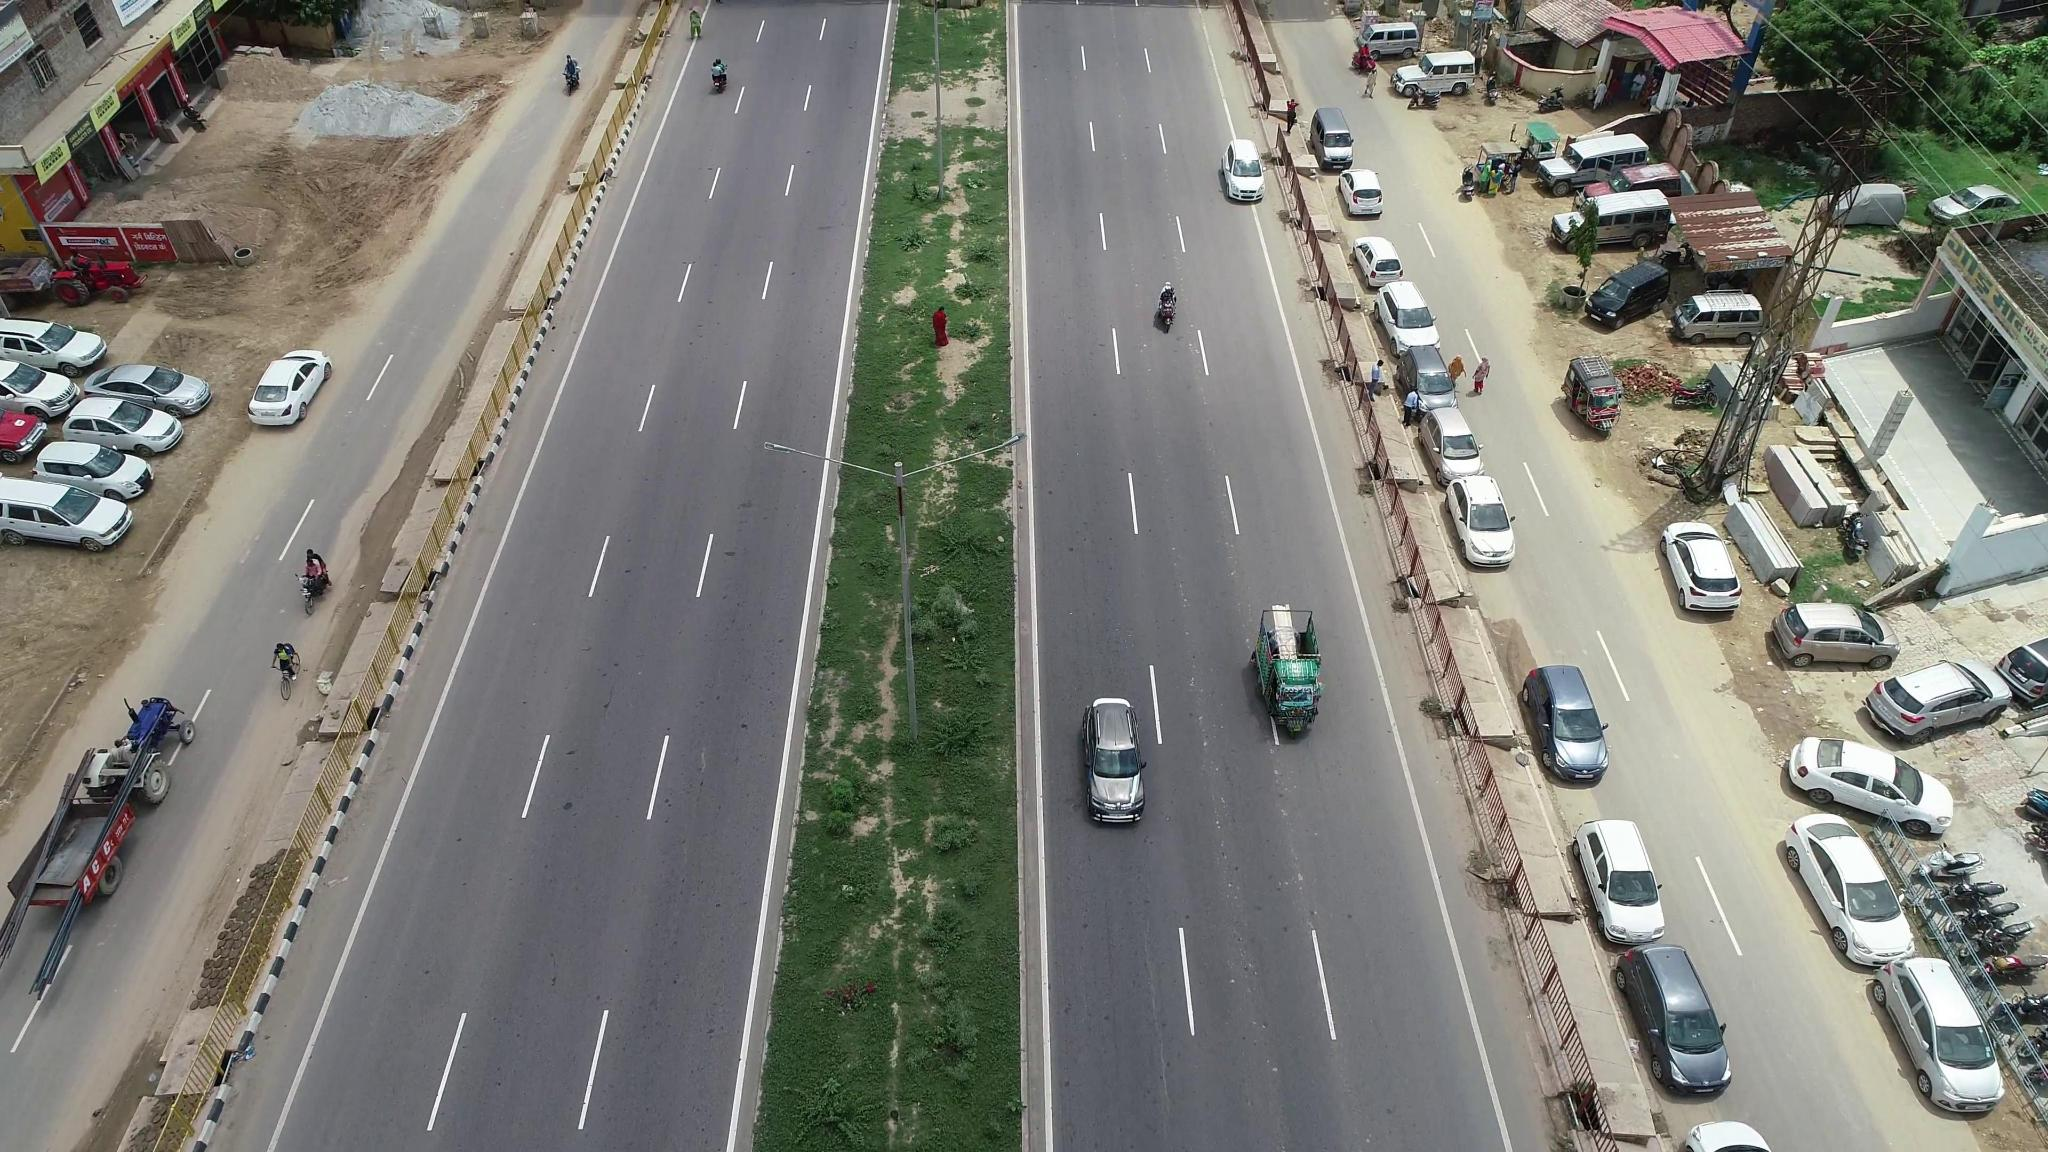Cracks: (1144, 938, 1173, 1127)
